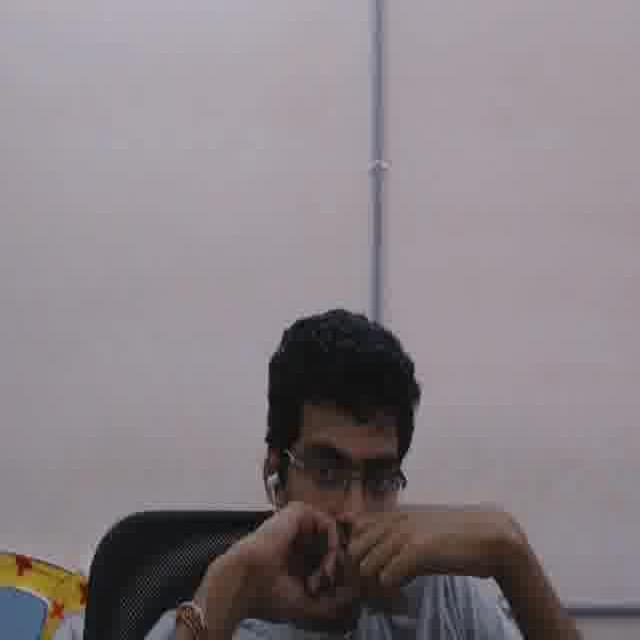Boredom: (282, 404, 406, 605)
